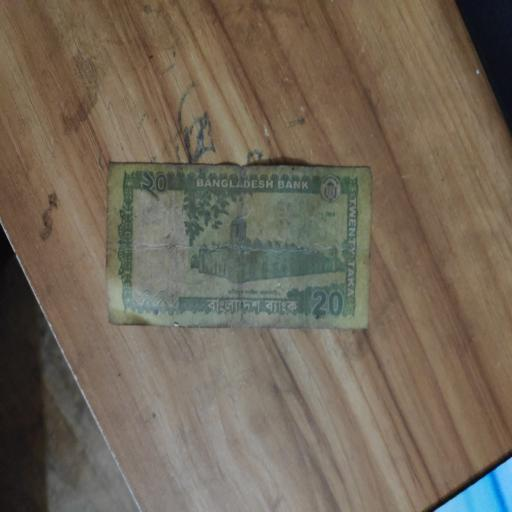20taka: (107, 158, 375, 337)
